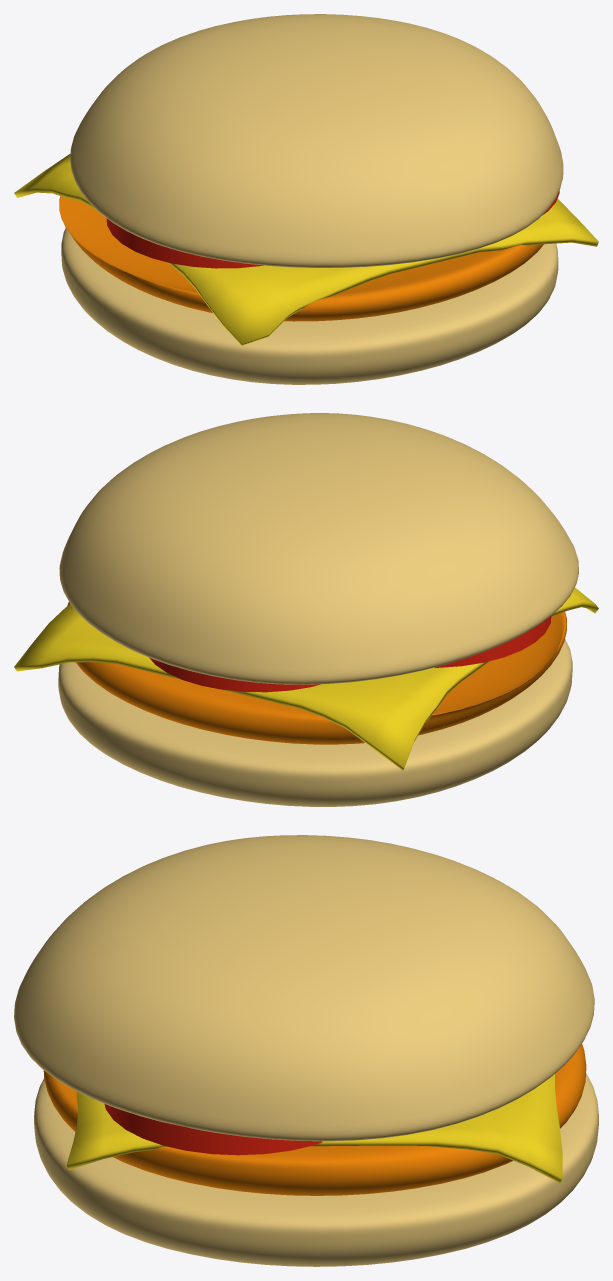
File: burger.glb
The picture shows the model from 3 angles, top to bottom: view 1: azimuth 30°, elevation 25°; view 2: azimuth 150°, elevation 25°; view 3: azimuth 270°, elevation 25°; orthographic projection. The views are drawn at different scales.
Visible parts, largest first — view 1: Cube.002, Cube, Cube.001, Plane, Cylinder; view 2: Cube.002, Cube, Cube.001, Plane, Cylinder.002, Cylinder; view 3: Cube.002, Cube, Cube.001, Plane, Cylinder.001.
Boxes of the visible parts, x1=… form: Cube.002: x1=70, y1=14, x2=563, y2=267; Cube: x1=61, y1=228, x2=558, y2=384; Cube.001: x1=59, y1=196, x2=543, y2=321; Plane: x1=14, y1=154, x2=598, y2=345; Cylinder: x1=106, y1=218, x2=263, y2=268; Cube.002: x1=59, y1=413, x2=578, y2=684; Cube: x1=58, y1=639, x2=572, y2=806; Cube.001: x1=67, y1=602, x2=566, y2=744; Plane: x1=14, y1=587, x2=598, y2=770; Cylinder.002: x1=149, y1=658, x2=320, y2=692; Cylinder: x1=434, y1=616, x2=551, y2=667; Cube.002: x1=14, y1=835, x2=594, y2=1141; Cube: x1=34, y1=1073, x2=598, y2=1266; Cube.001: x1=43, y1=1044, x2=586, y2=1195; Plane: x1=66, y1=1074, x2=562, y2=1182; Cylinder.001: x1=104, y1=1104, x2=322, y2=1155.
Size of the model in its own units: 9.85 by 5.57 by 9.97.
